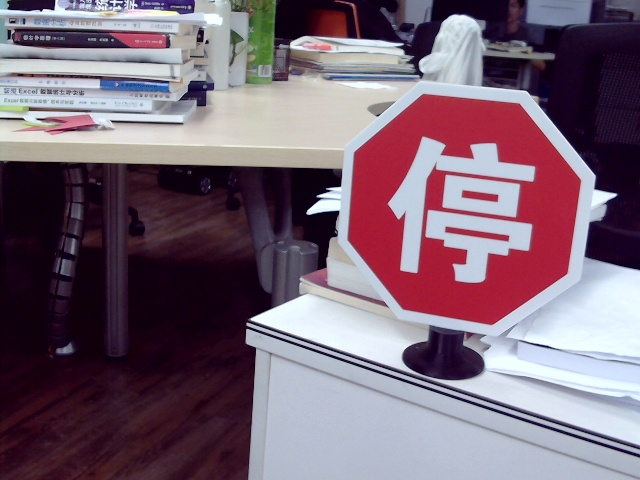stop: (388, 129, 536, 280)
